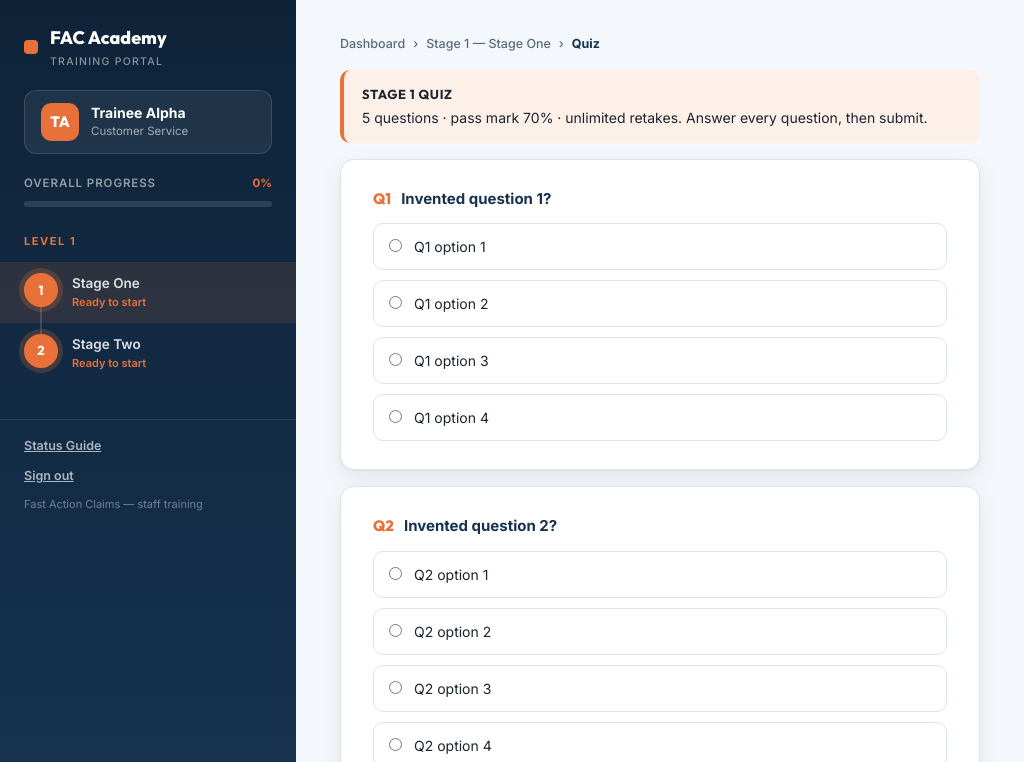
Test: Quiz result › after a FAIL shows right/wrong only — never a correct answer (D3)
The width and height of the screenshot is (1024, 762).
(page scrolled)
Expected: the text "Invented question 1?" is shown, [401,189,551,208]
Click the radio button labelled "Q1 option 1" at (396, 246), box [389,239,402,252]
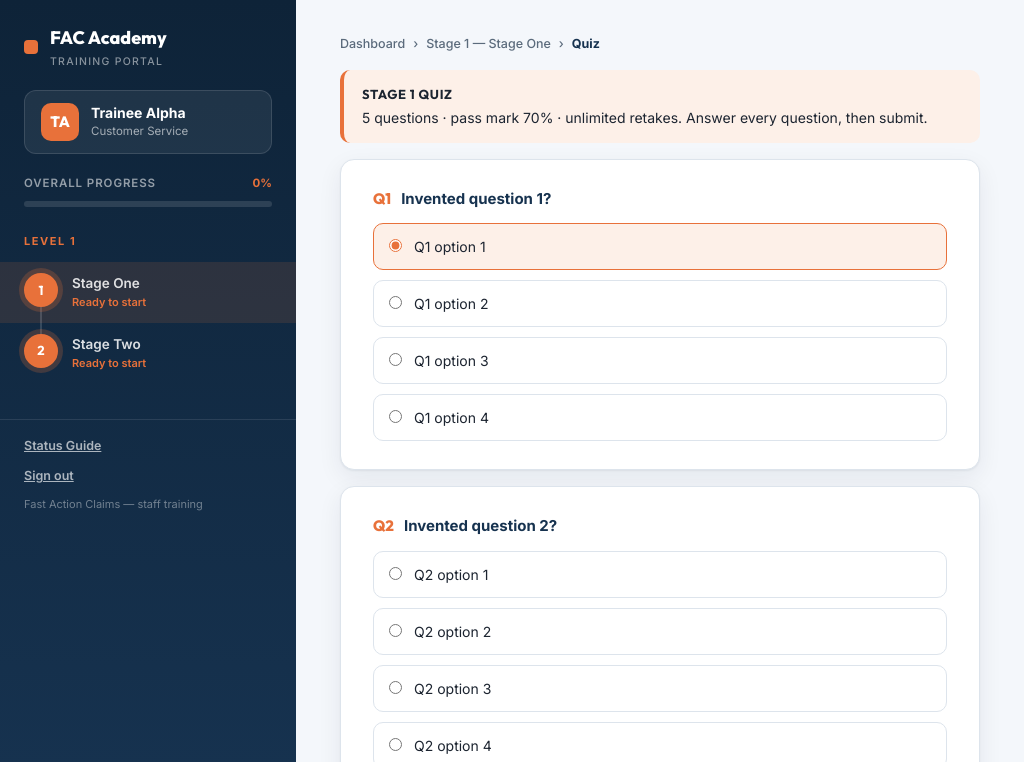
Click the radio button labelled "Q2 option 1" at (396, 574), box [389,567,402,580]
(page scrolled)
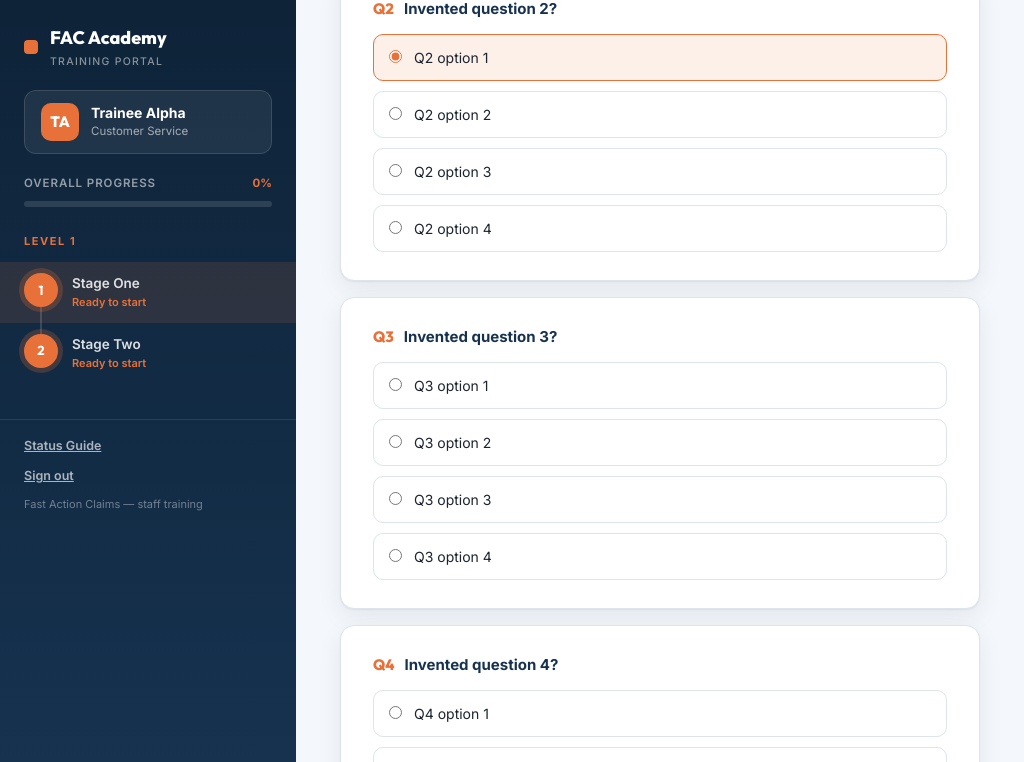
Click the radio button labelled "Q3 option 1" at (396, 384), box [389,378,402,391]
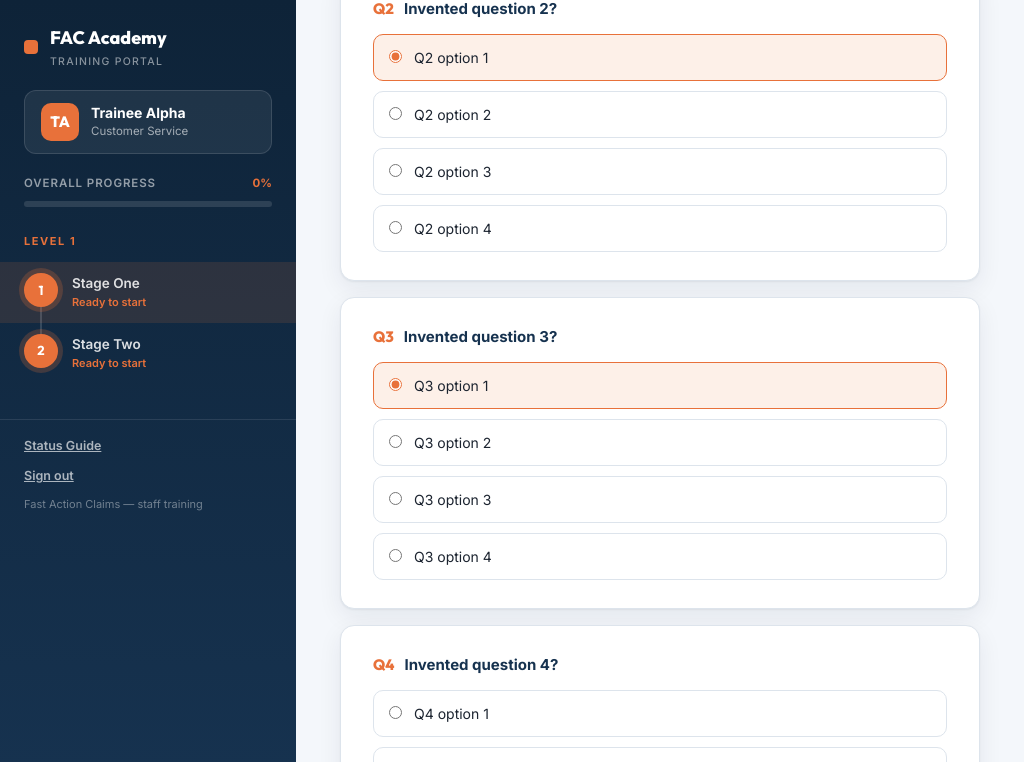
Click the radio button labelled "Q4 option 1" at (396, 712), box [389,706,402,719]
(page scrolled)
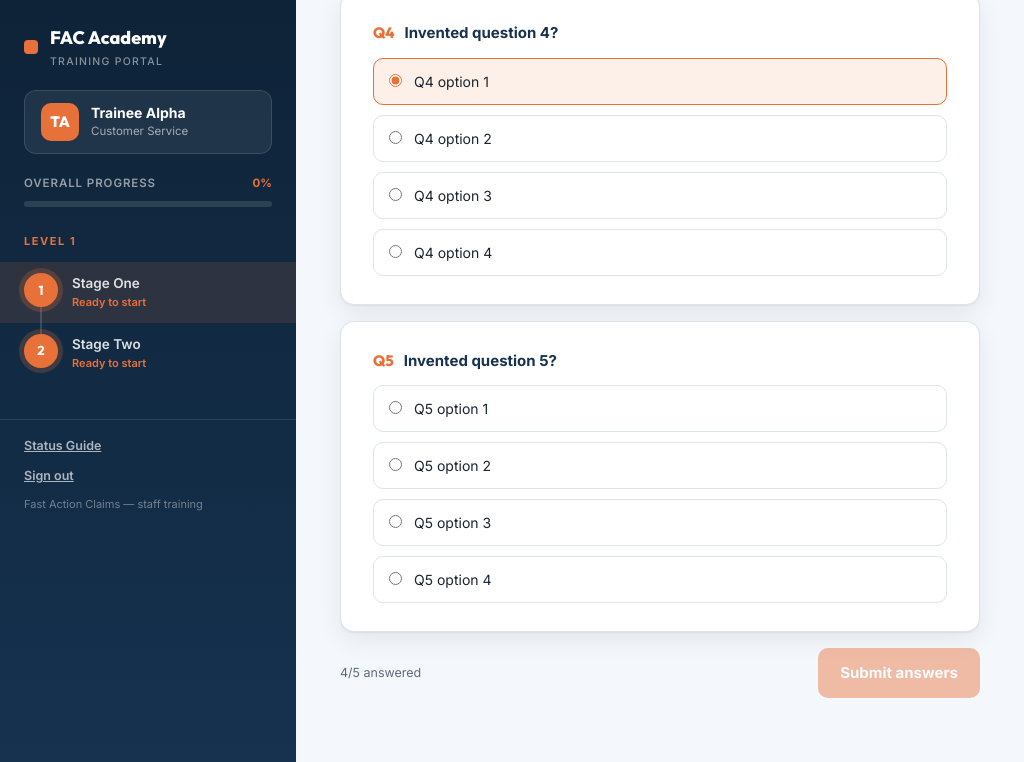
Click the radio button labelled "Q5 option 1" at (396, 408), box [389,401,402,414]
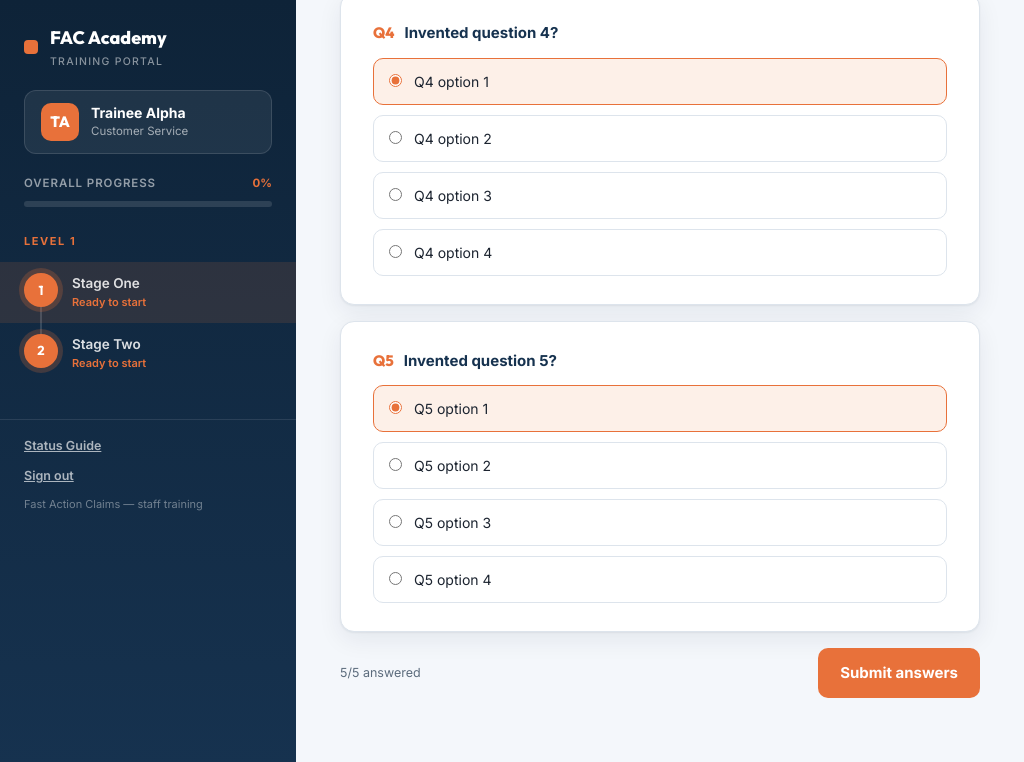
Click the button "Submit answers" at (899, 673), box [818,648,980,698]
(page scrolled)
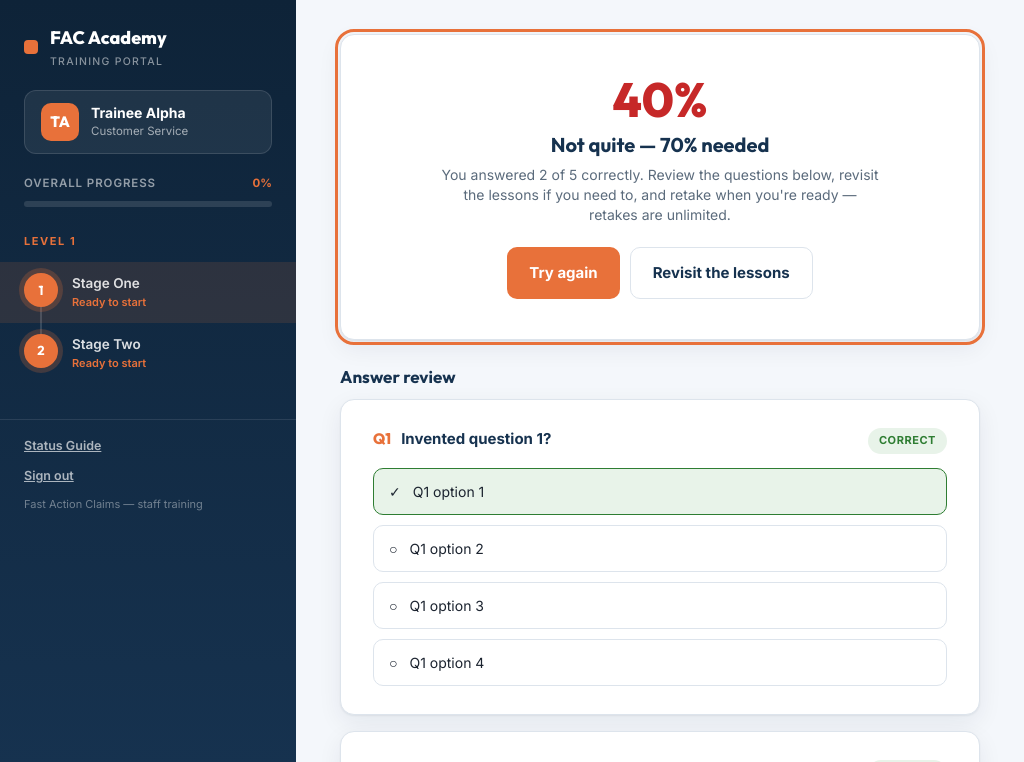
Now the heading "Answer review" is shown, box [340,366,456,387]
Now the text "40%" is shown, box [612,69,708,129]
Now the heading "Not quite — 70% needed" is shown, box [551,132,769,157]
